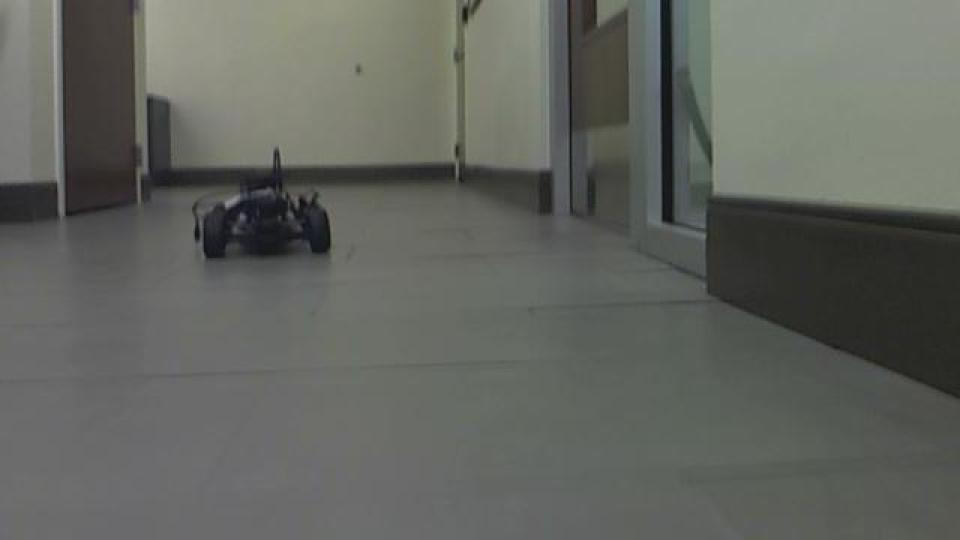car: (187, 144, 334, 262)
